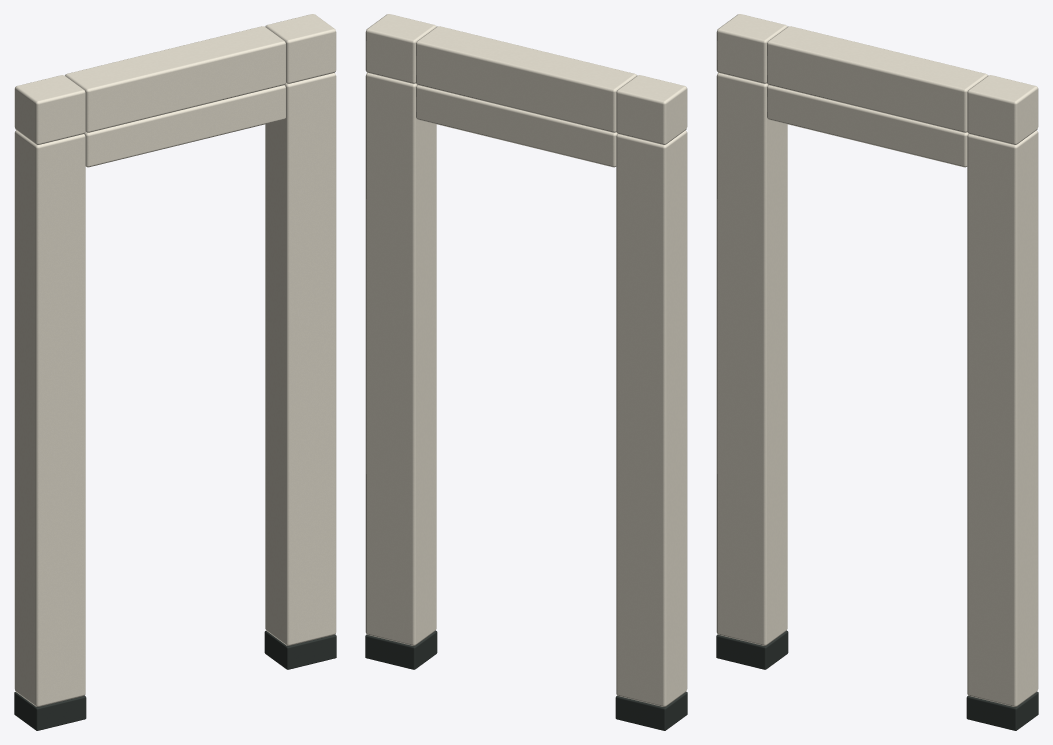
The model's file is portal.glb.
3 renders of one model, left to right at view 1: azimuth 30°, elevation 25°; view 2: azimuth 150°, elevation 25°; view 3: azimuth 330°, elevation 25°, orthographic.
Visible parts, largest first — view 1: wall_body (×2), lintel_band, wall_band (×2), lintel, wall_plinth (×2); view 2: wall_body (×2), lintel_band, wall_band (×2), lintel, wall_plinth (×2); view 3: wall_body (×2), lintel_band, wall_band (×2), lintel, wall_plinth (×2).
Part boxes in pixels (left/top/right/bottom): wall_body (×2): left=14, top=73, right=336, bottom=706; lintel_band: left=65, top=26, right=285, bottom=132; wall_band (×2): left=14, top=14, right=336, bottom=144; lintel: left=84, top=85, right=285, bottom=167; wall_plinth (×2): left=14, top=631, right=336, bottom=730; wall_body (×2): left=365, top=73, right=687, bottom=706; lintel_band: left=416, top=26, right=636, bottom=132; wall_band (×2): left=365, top=14, right=687, bottom=144; lintel: left=416, top=85, right=617, bottom=167; wall_plinth (×2): left=365, top=631, right=687, bottom=730; wall_body (×2): left=716, top=73, right=1038, bottom=706; lintel_band: left=767, top=26, right=987, bottom=132; wall_band (×2): left=716, top=14, right=1038, bottom=144; lintel: left=767, top=85, right=968, bottom=167; wall_plinth (×2): left=716, top=631, right=1038, bottom=730.
Bounding box in the file's own units: 3 × 6 × 0.4.
Materials: 2 (2 with a texture image).
